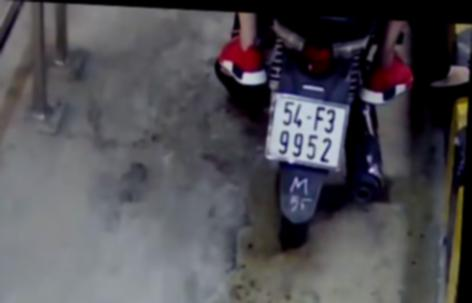License_Plate: (256, 88, 357, 176)
